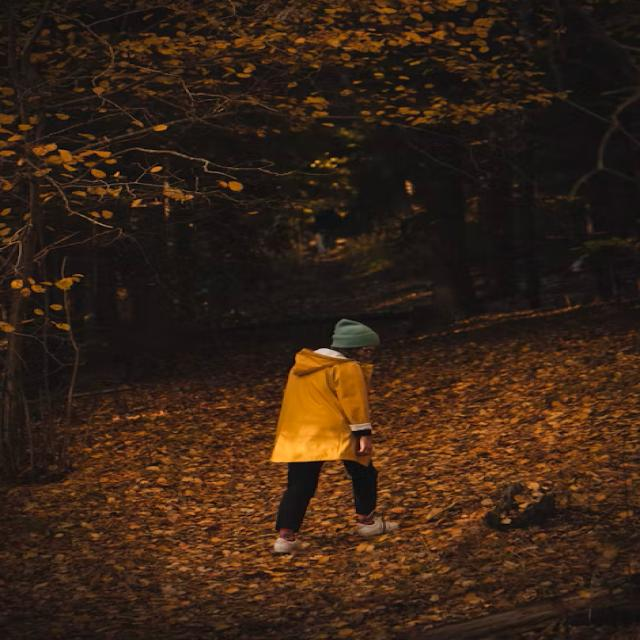Edited images: (236, 292, 424, 567)
